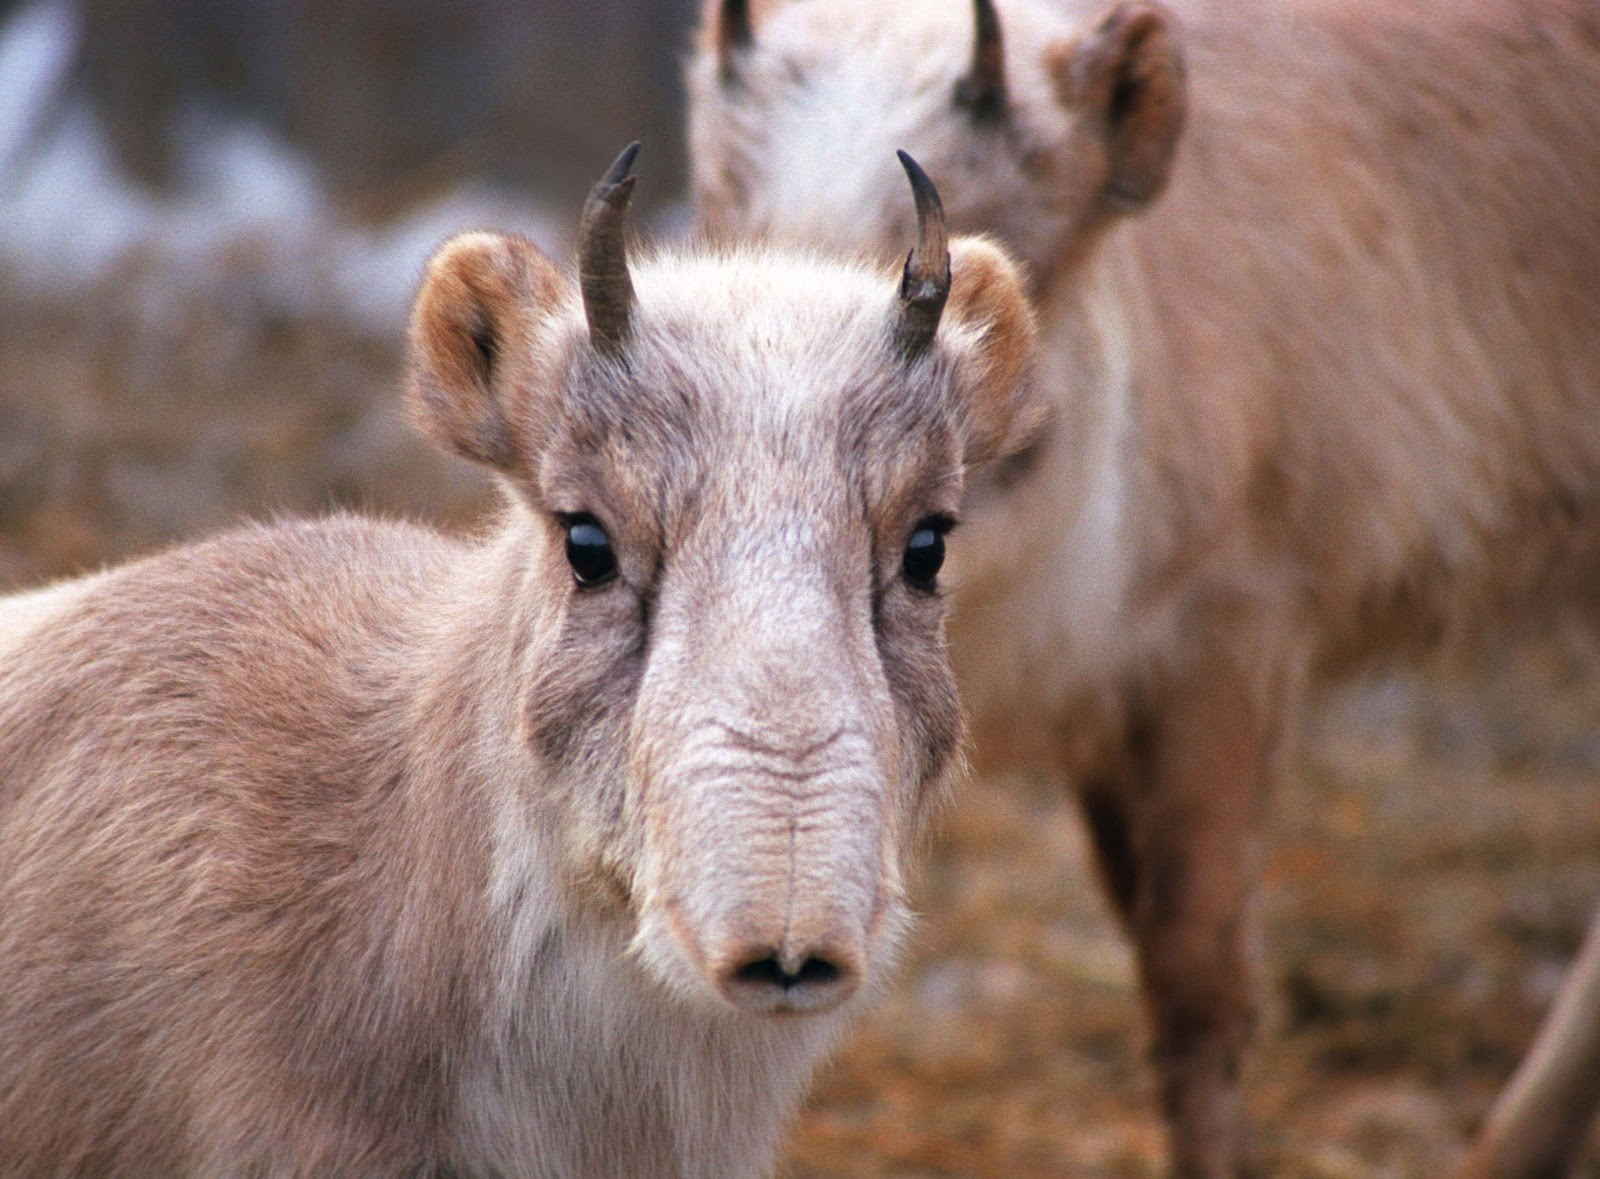saiga: (12, 147, 1050, 1179)
